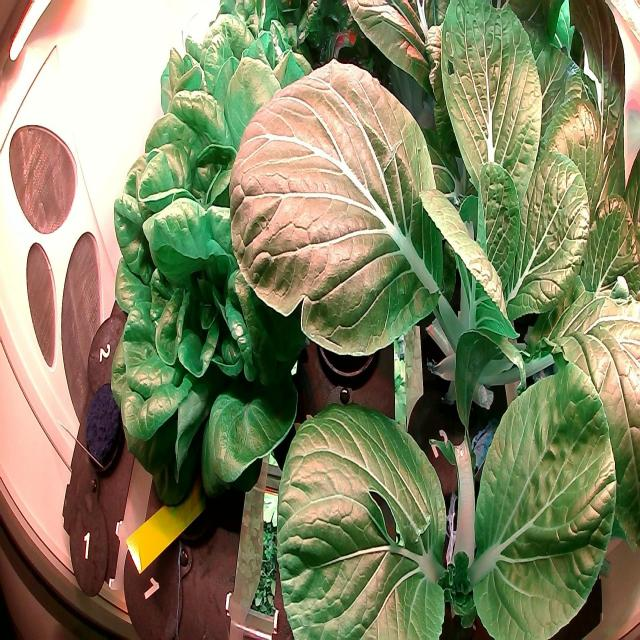Ready: (107, 137, 313, 498), (137, 0, 317, 225)
pod: (81, 378, 124, 472)
